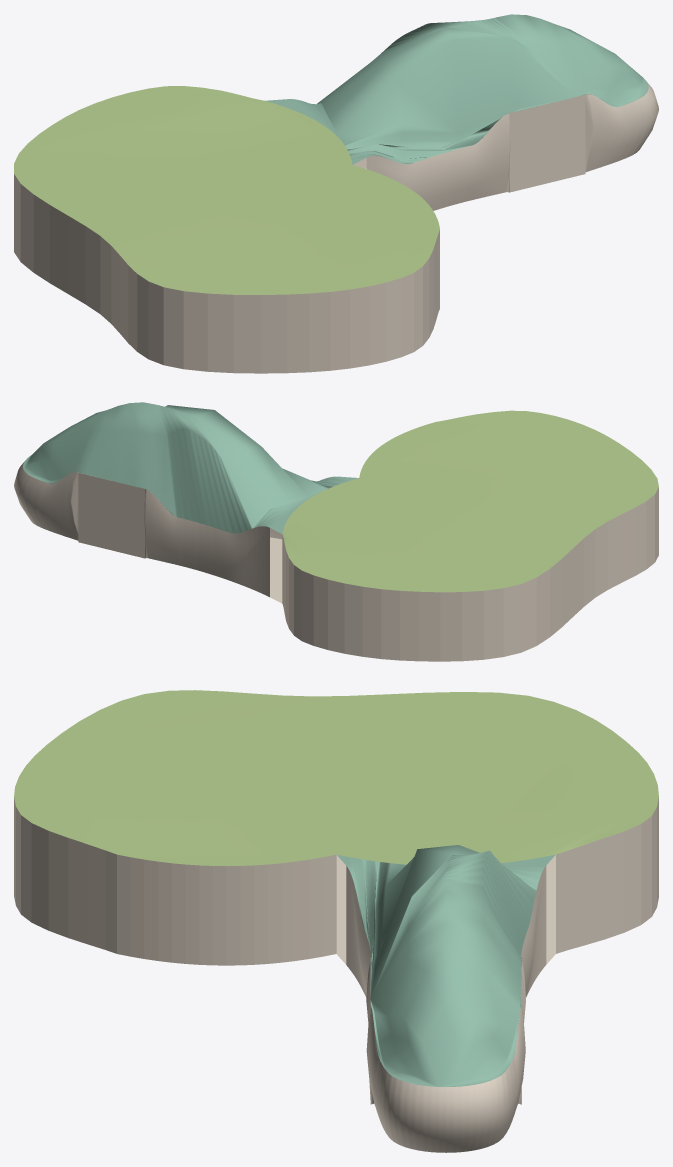
The model's file is single-source.glb.
The picture shows the model from 3 angles, top to bottom: view 1: azimuth 30°, elevation 25°; view 2: azimuth 150°, elevation 25°; view 3: azimuth 270°, elevation 25°; orthographic projection. The views are drawn at different scales.
Visible parts, largest first — view 1: baseline/top, baseline/rounded-coast, seaward-south/top, seaward-south/rounded-coast, seaward-south/bank-connection-positive; view 2: baseline/top, baseline/rounded-coast, seaward-south/top, seaward-south/rounded-coast, seaward-south/bank-connection-negative, seaward-south/soil-bottom; view 3: baseline/top, seaward-south/top, baseline/bank-north-seam, baseline/rounded-coast, seaward-south/rounded-coast, baseline/soil-bottom.
Part boxes in pixels (<box>): baseline/top: <box>14,86,439,294</box>; baseline/rounded-coast: <box>14,174,439,373</box>; seaward-south/top: <box>265,14,648,164</box>; seaward-south/rounded-coast: <box>353,82,658,210</box>; seaward-south/bank-connection-positive: <box>509,95,585,192</box>; baseline/top: <box>282,410,658,592</box>; baseline/rounded-coast: <box>282,487,658,661</box>; seaward-south/top: <box>23,402,358,533</box>; seaward-south/rounded-coast: <box>14,461,282,597</box>; seaward-south/bank-connection-negative: <box>78,473,144,558</box>; seaward-south/soil-bottom: <box>270,537,282,603</box>; baseline/top: <box>14,690,658,866</box>; seaward-south/top: <box>337,845,555,1086</box>; baseline/bank-north-seam: <box>117,854,336,965</box>; baseline/rounded-coast: <box>14,797,658,953</box>; seaward-south/rounded-coast: <box>346,866,546,1152</box>; baseline/soil-bottom: <box>336,855,555,955</box>.
Bounding box in the file's own units: 8.09 × 1.88 × 5.88.
